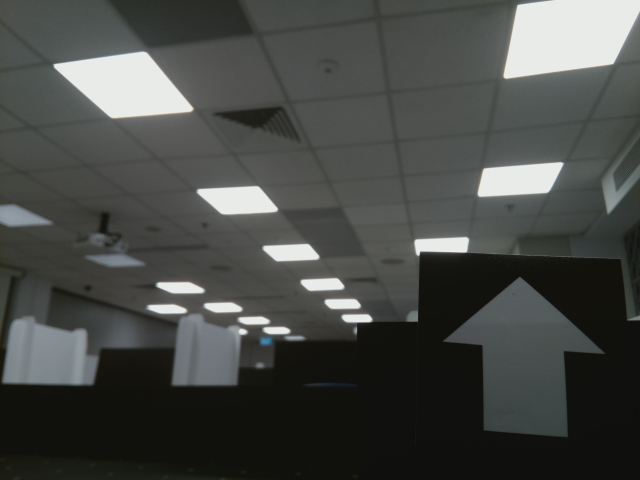up: (429, 265, 620, 456)
